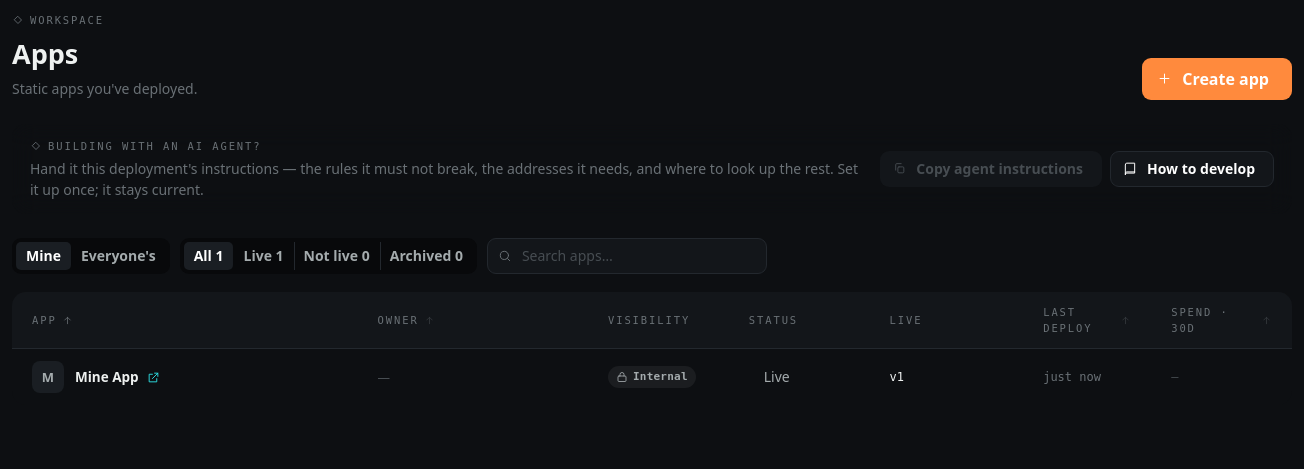
AppsListPage › scope › switches scope from the control, and puts it in the URL
Expected: the text "Mine App" is shown, left=75, top=367, right=139, bottom=388
Click the radio button labelled "Everyone's" at (118, 256), box left=81, top=246, right=156, bottom=265
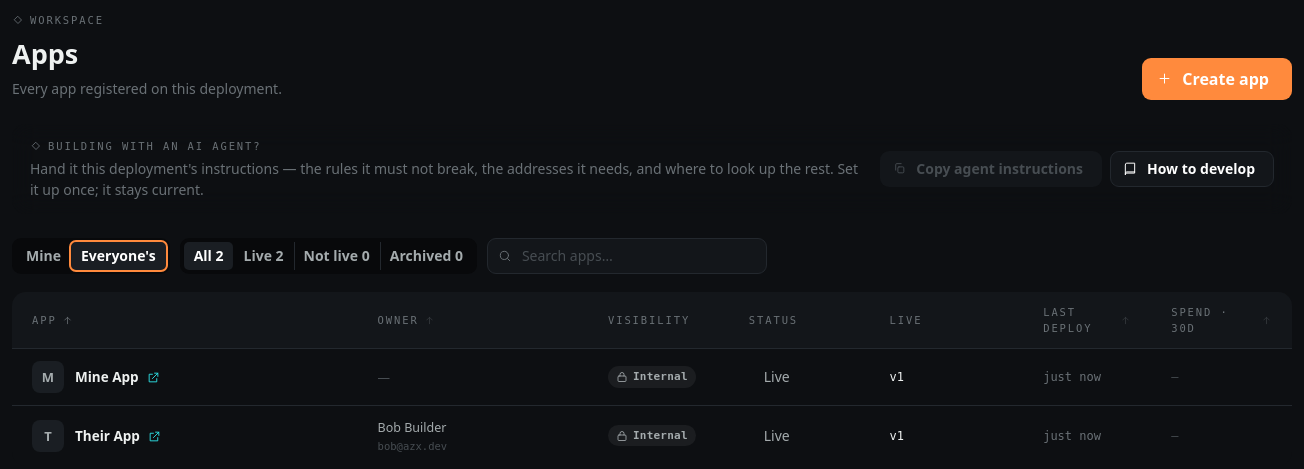
Now the text "Their App" is shown, box left=75, top=426, right=140, bottom=447
